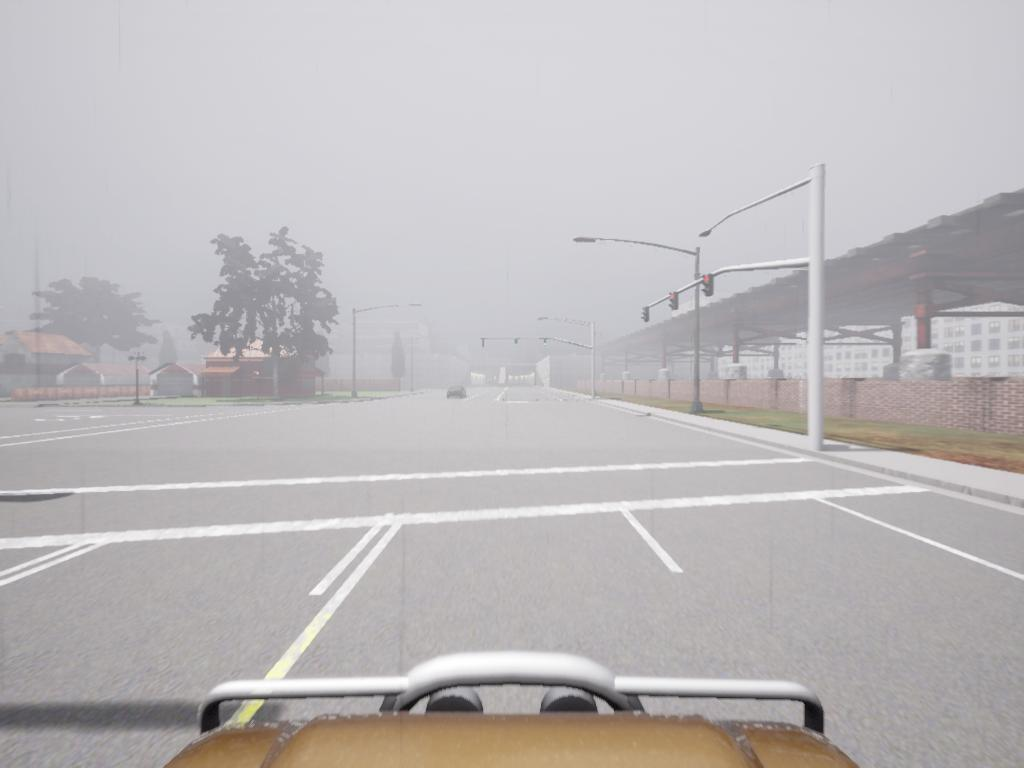traffic_light: (702, 277, 713, 297), (643, 305, 651, 325), (670, 293, 678, 311), (543, 337, 549, 349), (482, 340, 487, 351), (515, 339, 520, 347)
